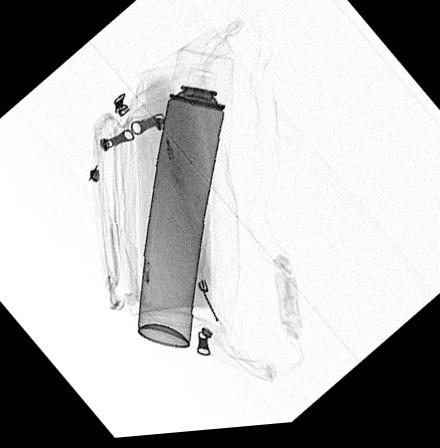Sprayer: (137, 50, 232, 350)
